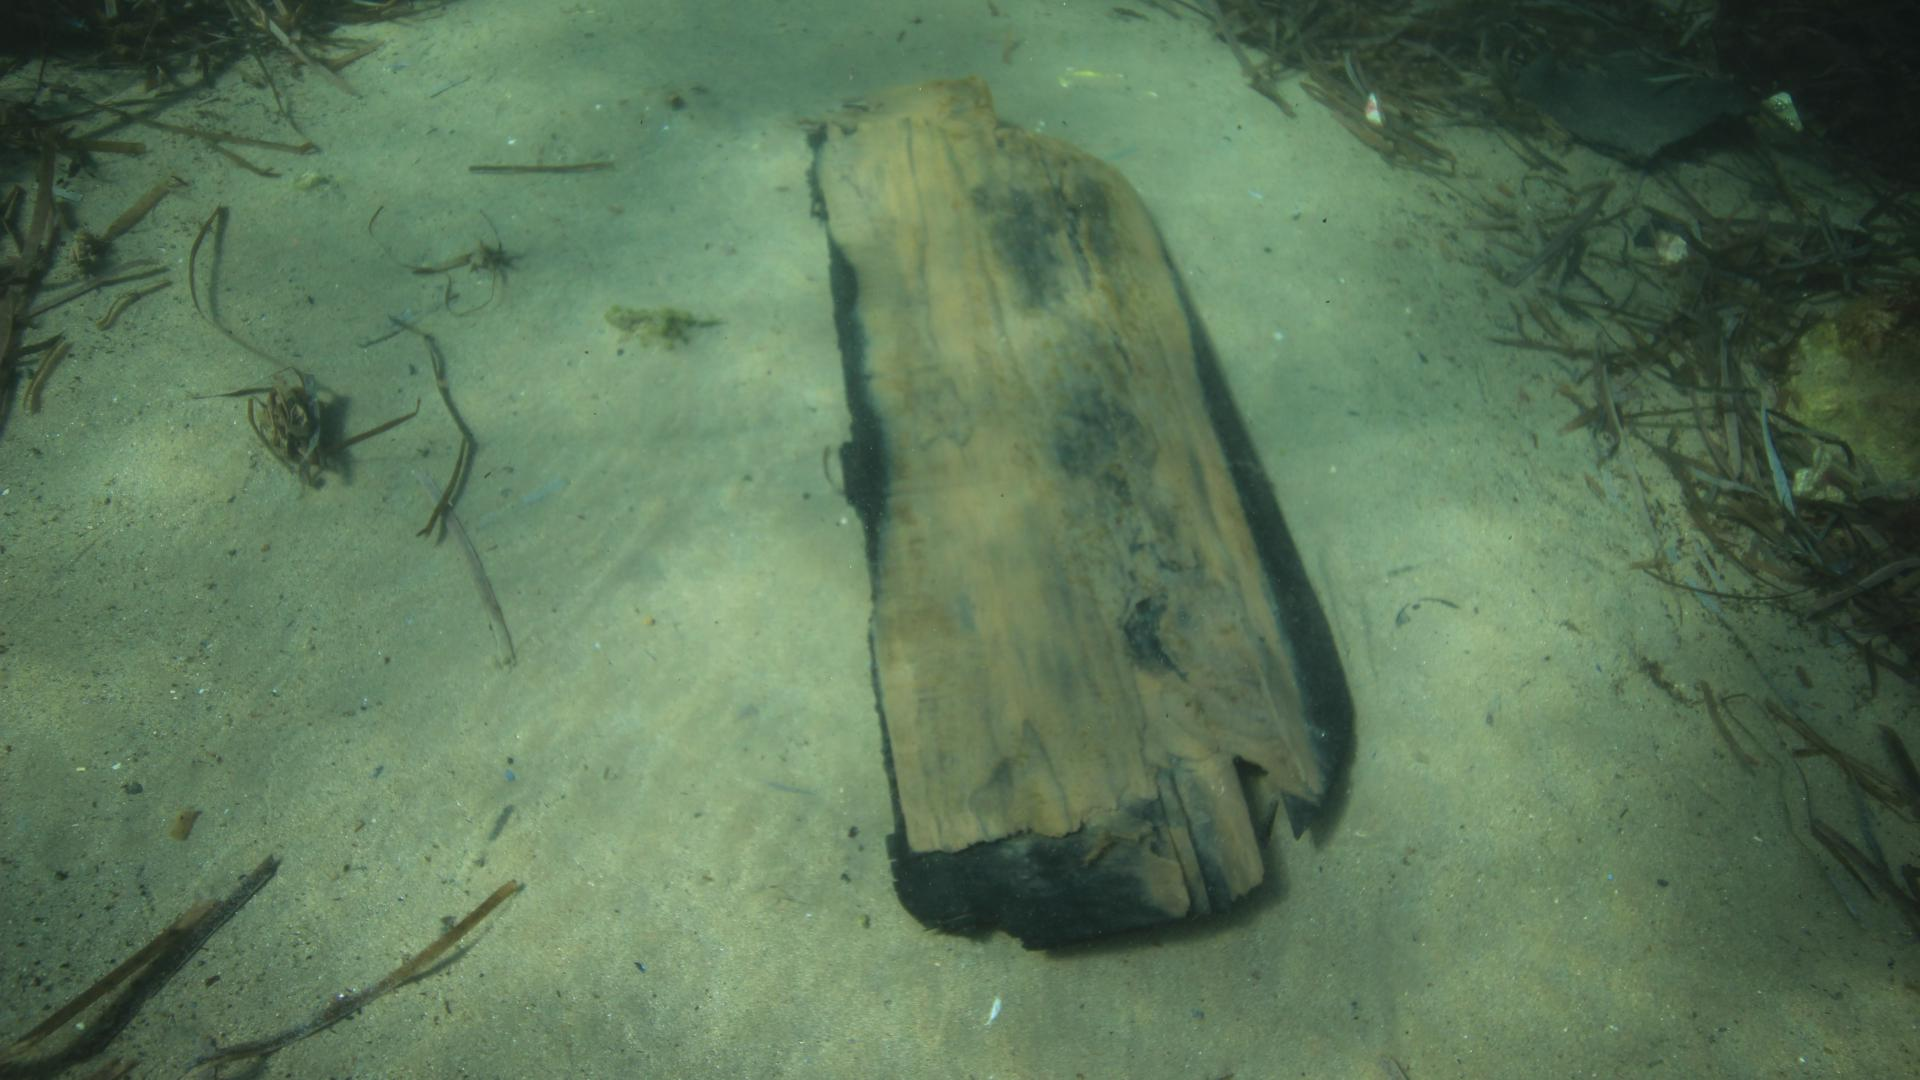wood: (806, 76, 1349, 953)
